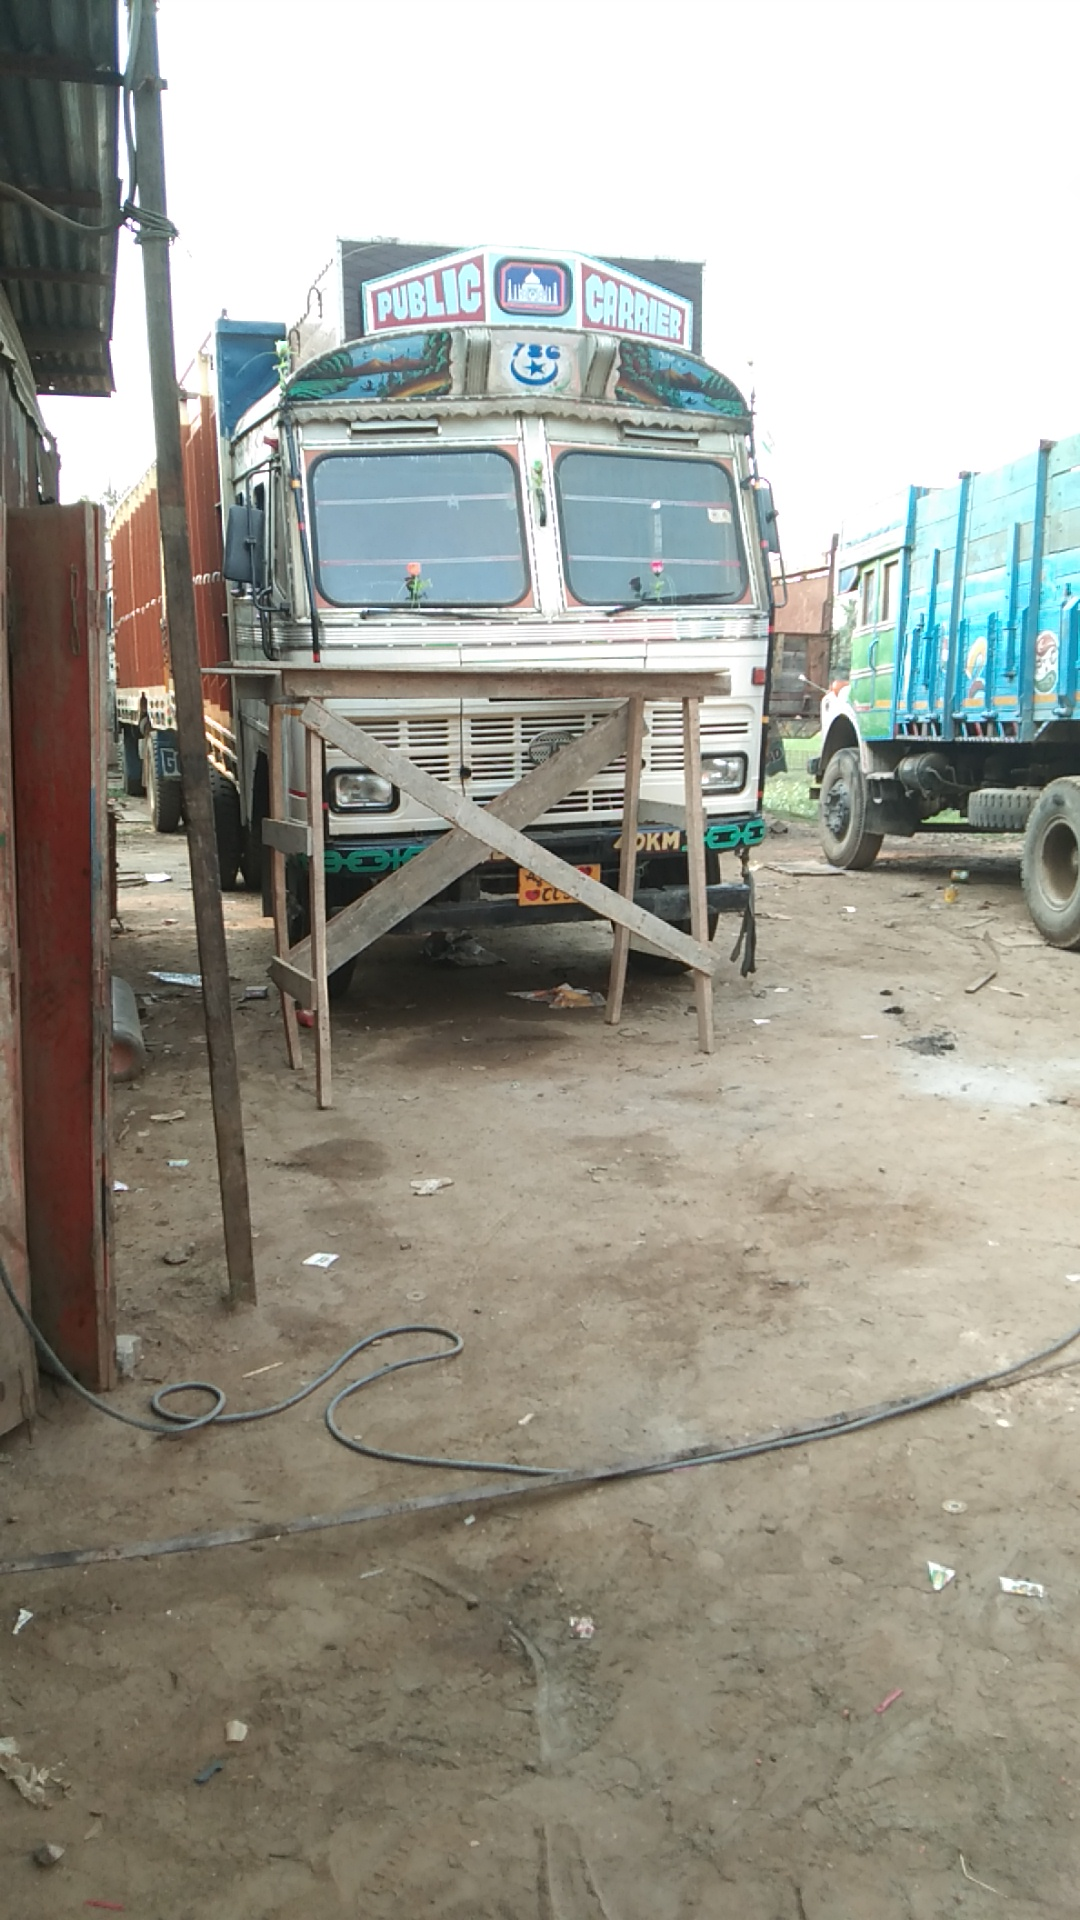truck: (105, 227, 791, 1000), (804, 431, 1080, 952), (760, 531, 841, 779)
